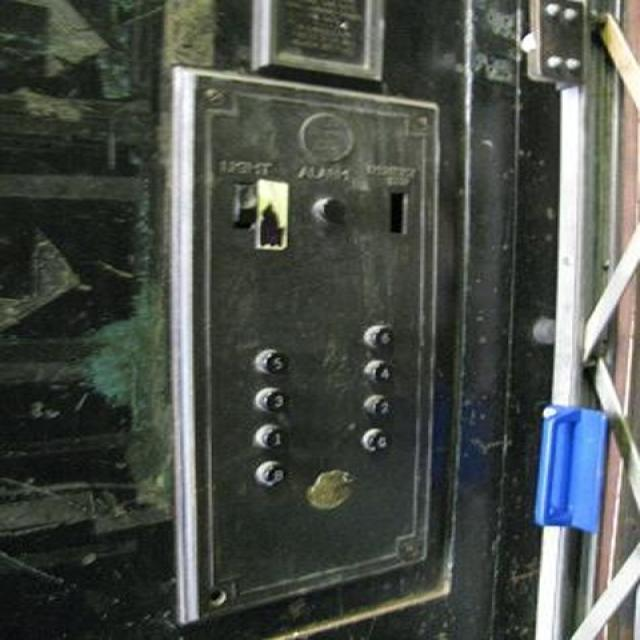0: (357, 426, 395, 454)
1: (251, 422, 288, 451)
2: (359, 392, 396, 422)
3: (251, 384, 288, 413)
4: (359, 357, 396, 386)
5: (252, 346, 289, 375)
6: (359, 322, 396, 351)
B: (251, 458, 288, 487)
empty: (310, 194, 346, 226)
